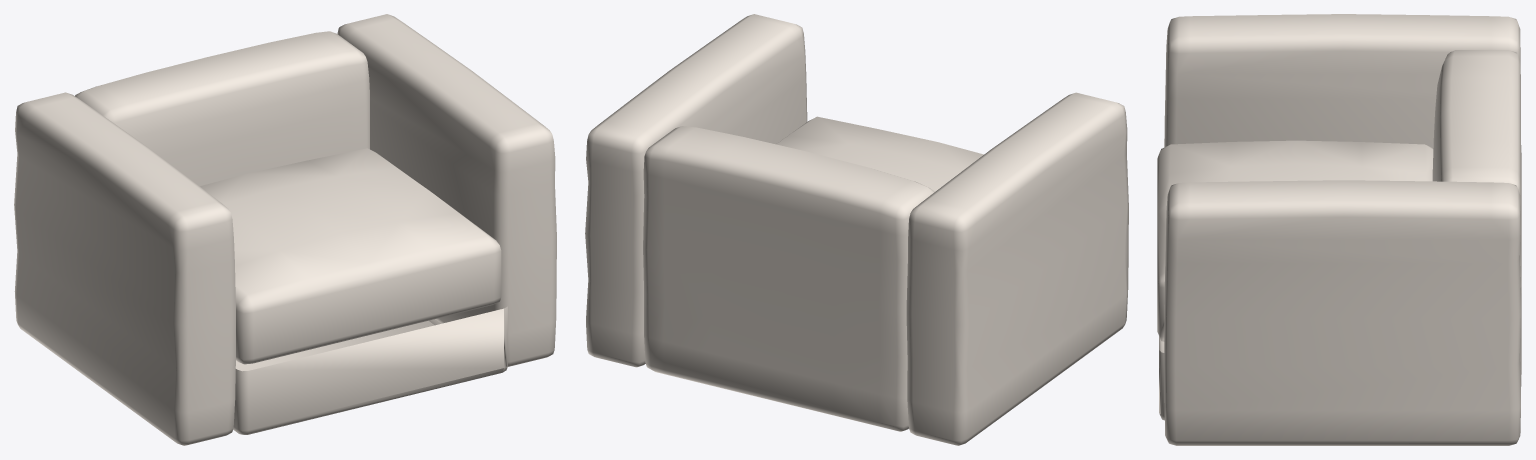
The model's file is sofa.glb.
3 renders of one model, left to right at view 1: azimuth 30°, elevation 25°; view 2: azimuth 150°, elevation 25°; view 3: azimuth 270°, elevation 25°, orthographic. The views are drawn at different scales.
Visible parts, largest first — view 1: Cushion01_low__mReFabric.001; view 2: Cushion01_low__mReFabric.001; view 3: Cushion01_low__mReFabric.001.
Part boxes in pixels (bbox=[...]): Cushion01_low__mReFabric.001: bbox=[14, 14, 556, 445]; Cushion01_low__mReFabric.001: bbox=[585, 14, 1128, 445]; Cushion01_low__mReFabric.001: bbox=[1157, 14, 1521, 445].
Size of the model in its own units: 1.1 by 0.6405 by 0.8595.
Materials: 1 (1 with a texture image).
